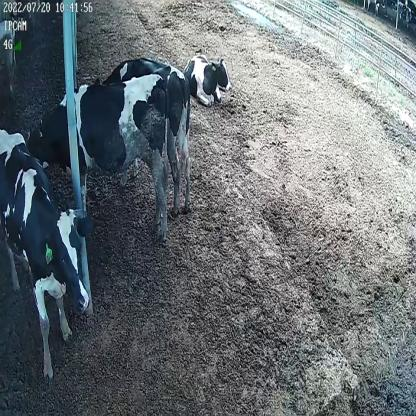cow: (1, 123, 96, 380), (25, 74, 170, 242), (94, 58, 193, 216), (181, 51, 232, 110)
